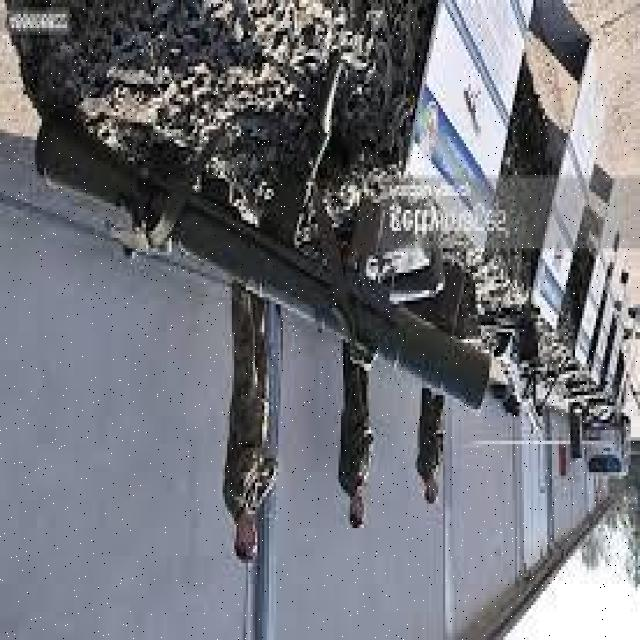bazooka: (27, 102, 503, 415)
